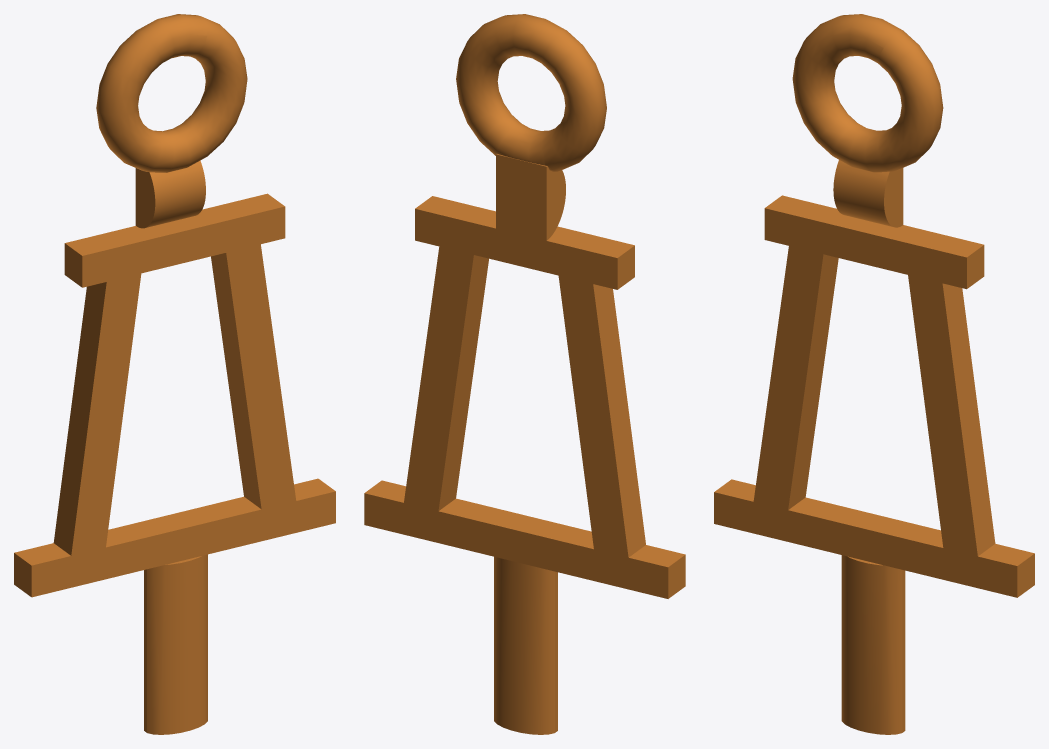
Rendered from tbp.obj.
3 renders of one model, left to right at view 1: azimuth 30°, elevation 25°; view 2: azimuth 150°, elevation 25°; view 3: azimuth 330°, elevation 25°, orthographic.
Visible parts, largest first — view 1: group_15277357, group_40919, group_16089887, group_7720667; view 2: group_15277357, group_40919, group_16089887, group_7720667; view 3: group_15277357, group_40919, group_16089887, group_7720667.
Boxes of the visible parts, left/top/right/bottom form: group_15277357: left=14, top=193, right=335, bottom=597; group_40919: left=96, top=14, right=247, bottom=172; group_16089887: left=144, top=554, right=207, bottom=734; group_7720667: left=135, top=160, right=205, bottom=228; group_15277357: left=364, top=196, right=685, bottom=598; group_40919: left=456, top=14, right=606, bottom=171; group_16089887: left=494, top=556, right=557, bottom=734; group_7720667: left=496, top=154, right=565, bottom=240; group_15277357: left=714, top=195, right=1034, bottom=597; group_40919: left=792, top=14, right=943, bottom=172; group_16089887: left=841, top=555, right=905, bottom=734; group_7720667: left=833, top=160, right=903, bottom=227.
Size of the model in its own units: 30 by 66.71 by 3.6.
